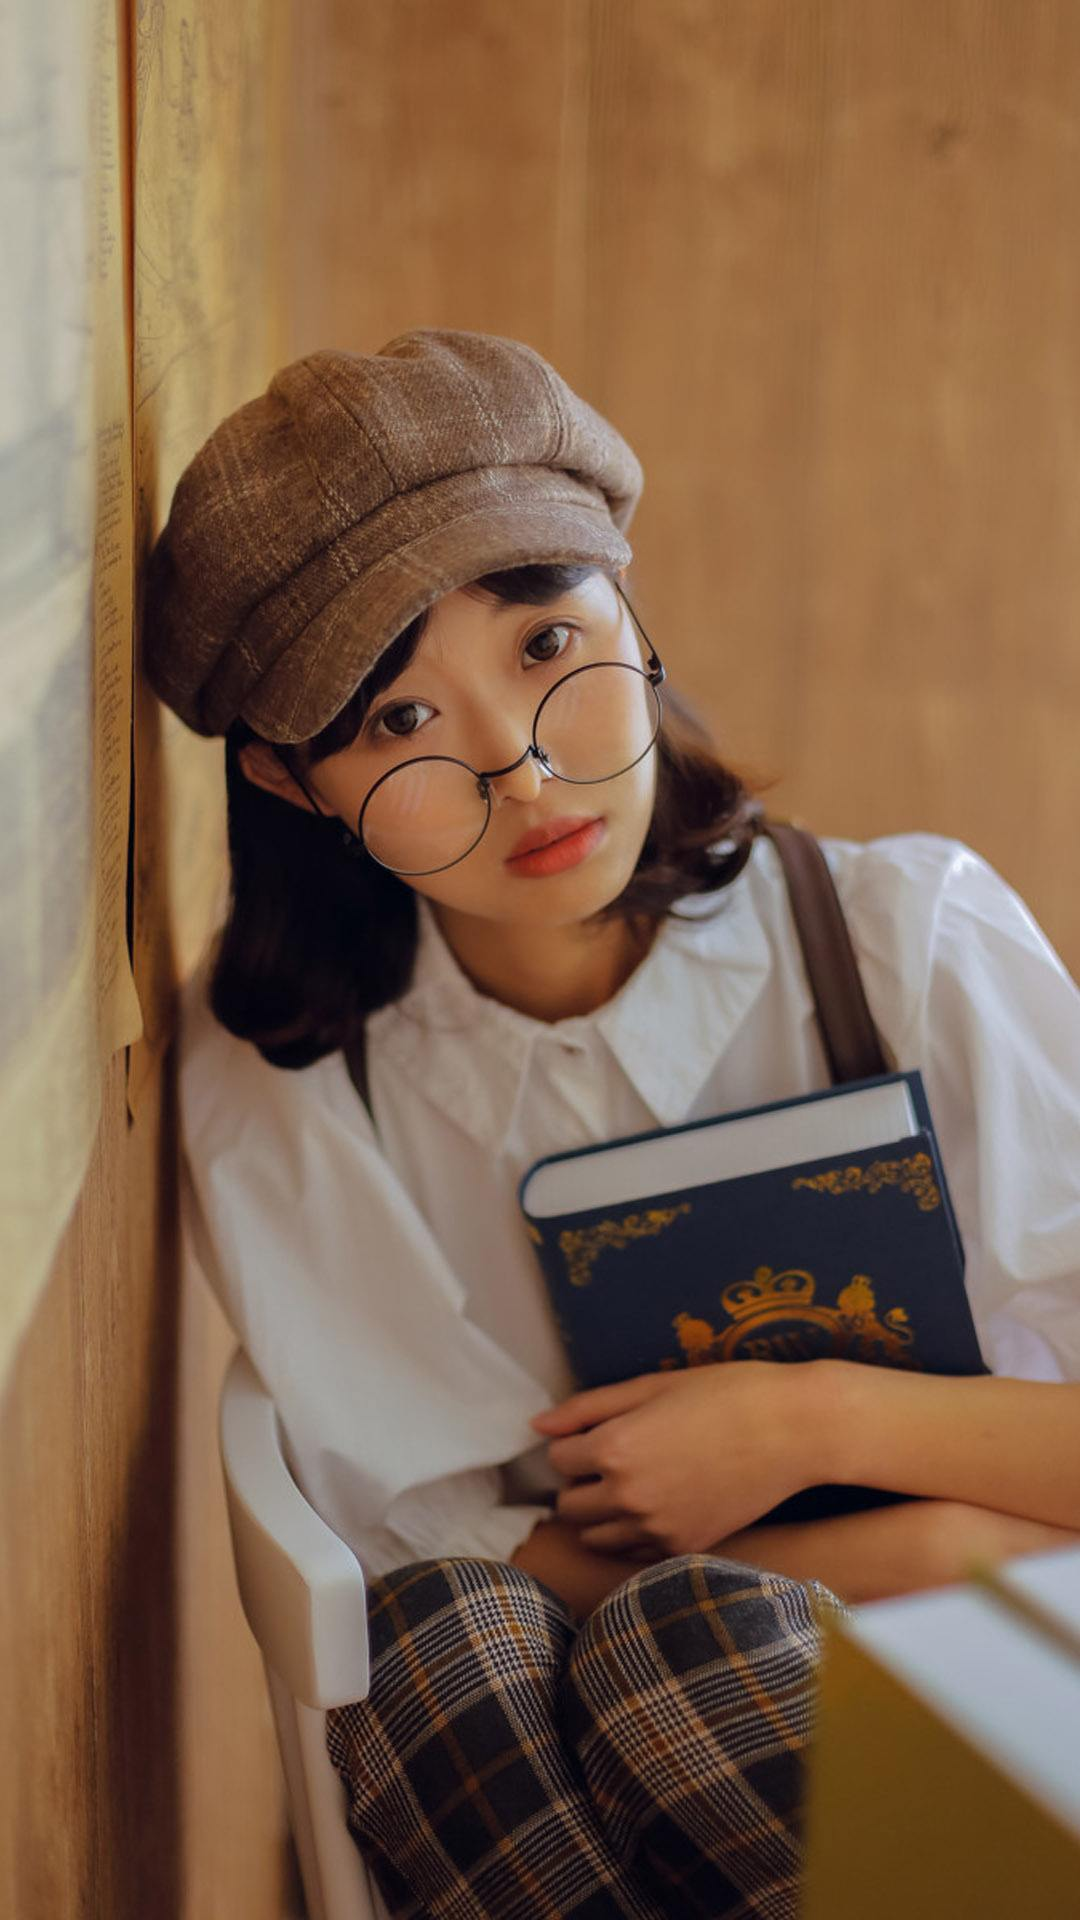person: (175, 314, 706, 1012)
